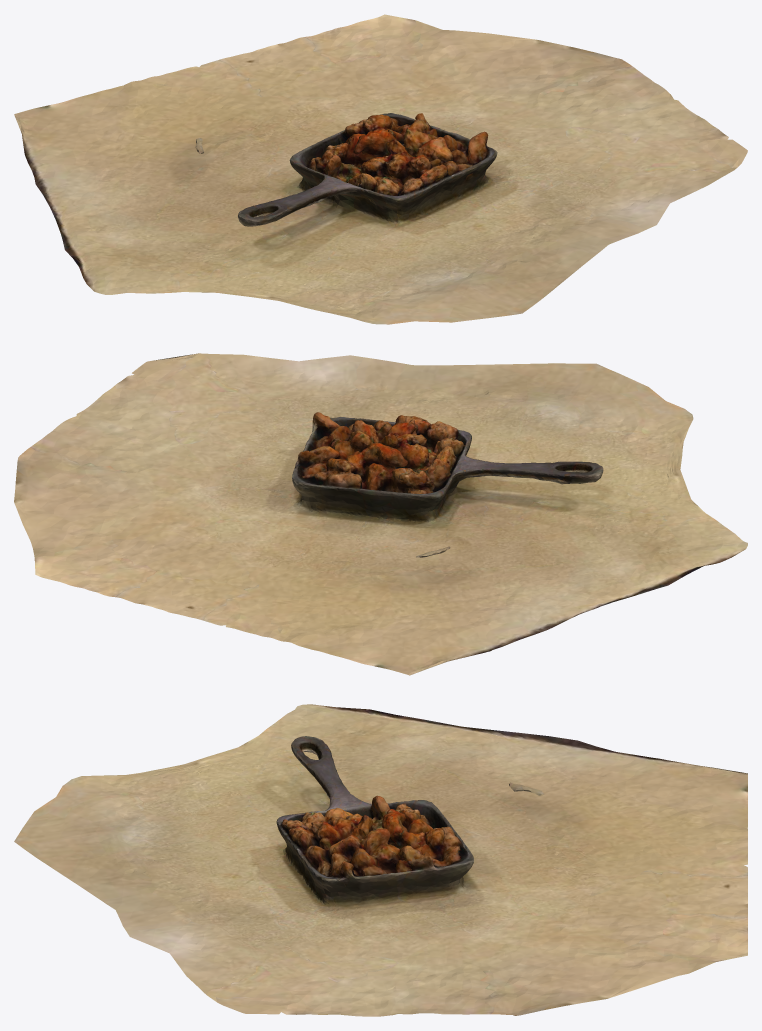
The model's file is chicken_bites-final.glb.
The picture shows the model from 3 angles, top to bottom: view 1: azimuth 30°, elevation 25°; view 2: azimuth 150°, elevation 25°; view 3: azimuth 270°, elevation 25°; orthographic projection. The views are drawn at different scales.
Size of the model in its own units: 0.7047 by 0.0652 by 0.6792.
Materials: 1 (1 with a texture image).
